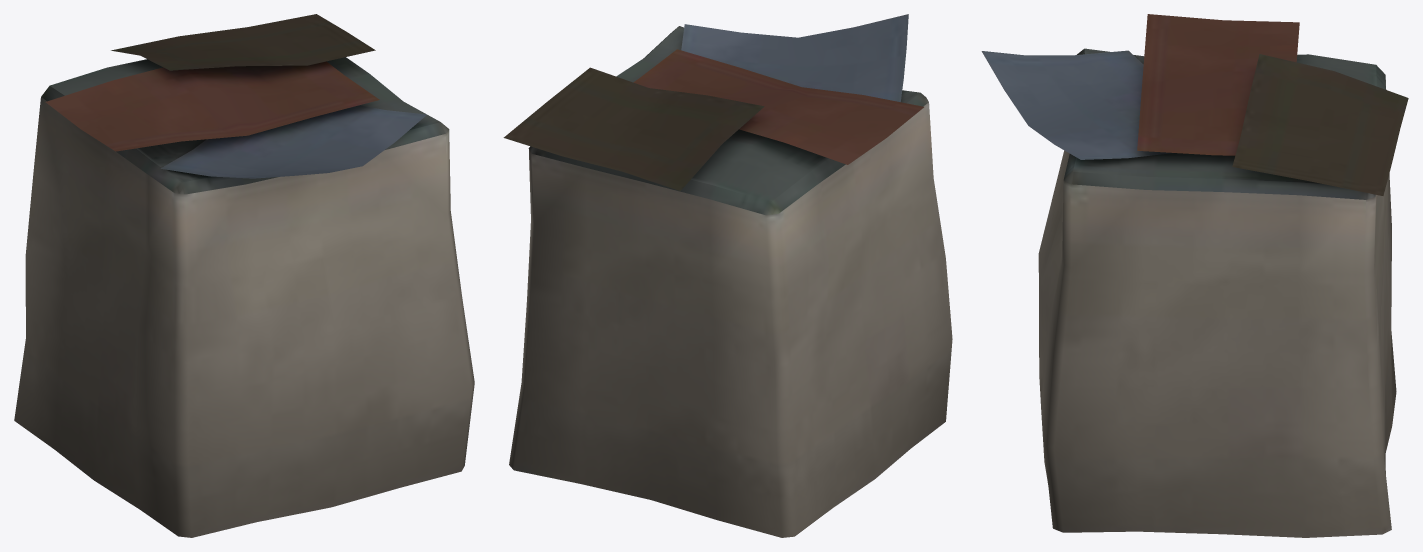
Rendered from MSH_Building_007.glb.
The picture shows the model from 3 angles, left to right: view 1: azimuth 30°, elevation 25°; view 2: azimuth 150°, elevation 25°; view 3: azimuth 270°, elevation 25°; orthographic projection. The views are drawn at different scales.
Parts seen in each view (by area): view 1: Base.013; view 2: Base.013; view 3: Base.013.
Part boxes in pixels (left/top/right/bottom): Base.013: left=14, top=14, right=474, bottom=537; Base.013: left=503, top=14, right=952, bottom=537; Base.013: left=981, top=14, right=1408, bottom=537.
Size of the model in its own units: 5.56 by 6.23 by 6.34.
1 material, 1 textured.
